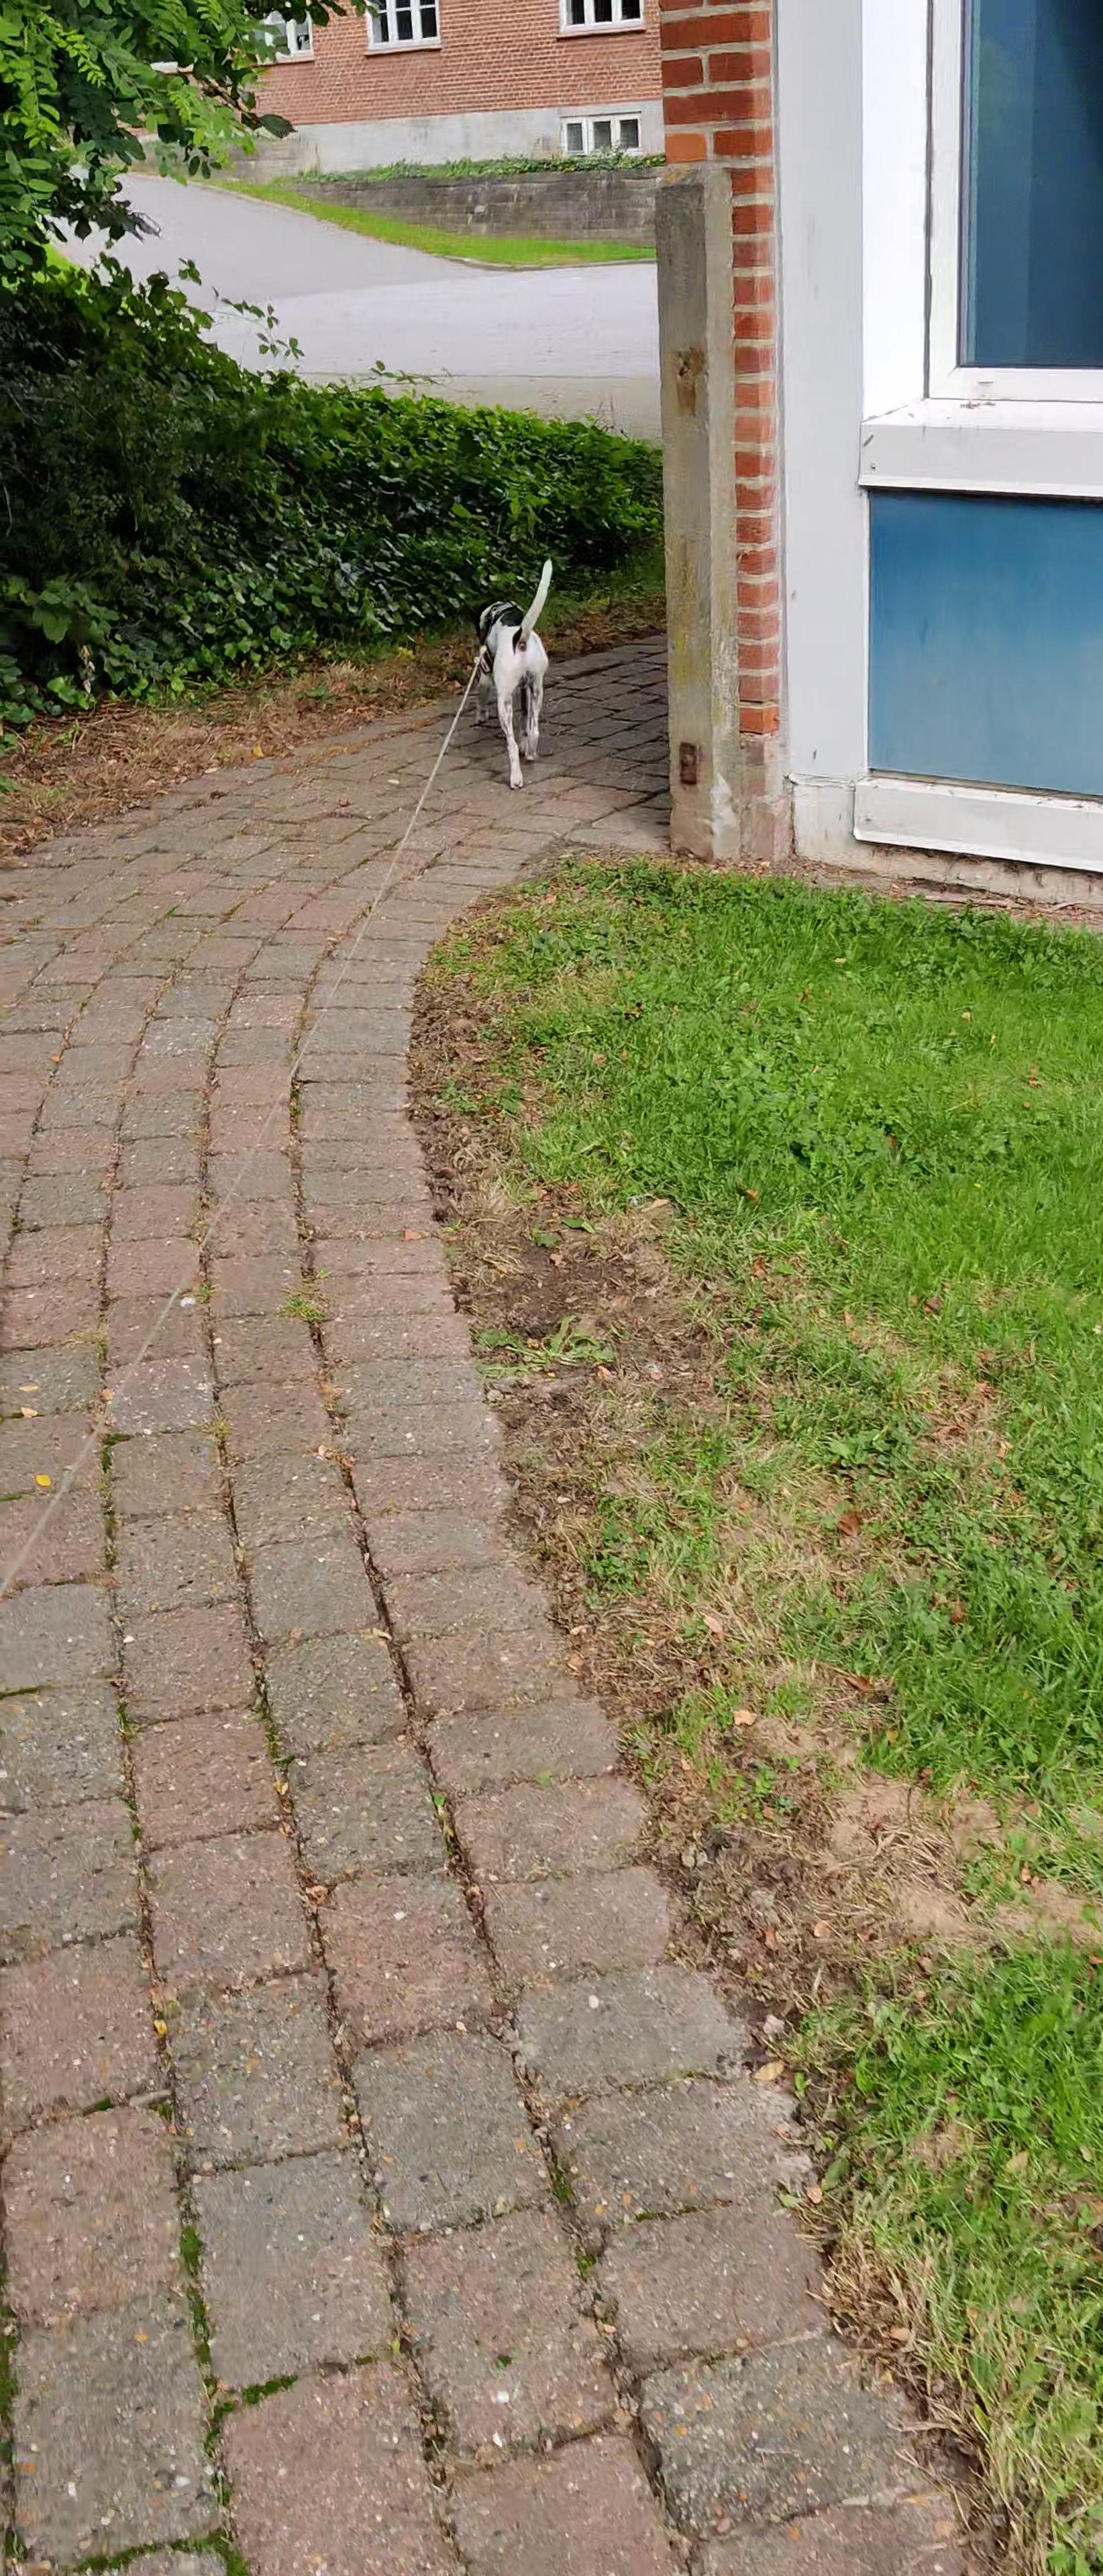Dog: (452, 554, 588, 792)
